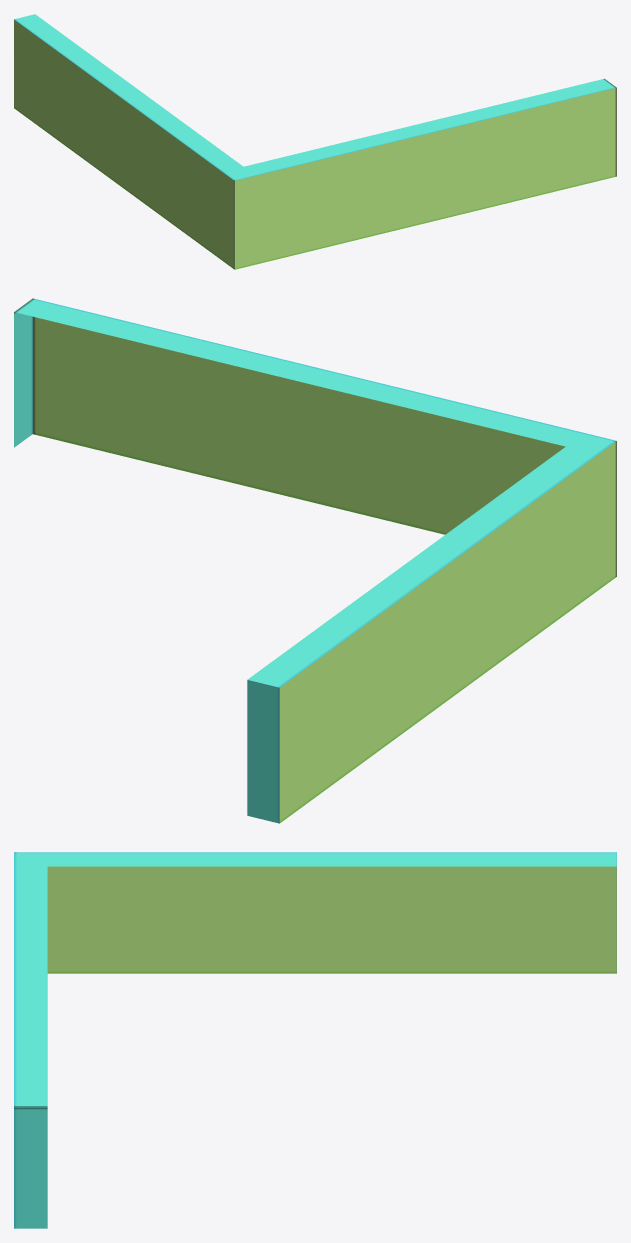
Rendered from MK_Floor_Trim_B_Corner_Out.fbx.
3 views of the same model, one above another, from view 1: azimuth 30°, elevation 25°; view 2: azimuth 150°, elevation 25°; view 3: azimuth 270°, elevation 25° (orthographic). The views are drawn at different scales.
Parts seen in each view (by area): view 1: Floor_Trim_B_Corner_Out; view 2: Floor_Trim_B_Corner_Out; view 3: Floor_Trim_B_Corner_Out.
Part boxes in pixels (box(x1,y1,x2,y2)): Floor_Trim_B_Corner_Out: box(14, 14, 616, 269); Floor_Trim_B_Corner_Out: box(14, 298, 616, 823); Floor_Trim_B_Corner_Out: box(14, 852, 616, 1228).
Bounding box in the file's own units: 203 × 45 × 202.
1 material, 1 textured.
